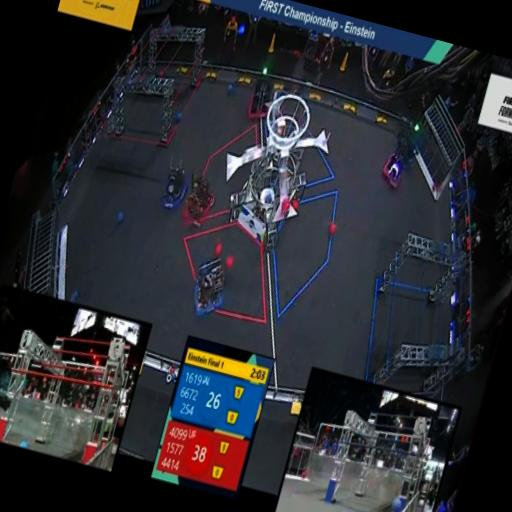robot: (180, 248, 236, 326), (150, 149, 196, 214), (176, 169, 220, 234), (386, 110, 430, 172), (241, 67, 280, 126), (372, 144, 412, 200)
